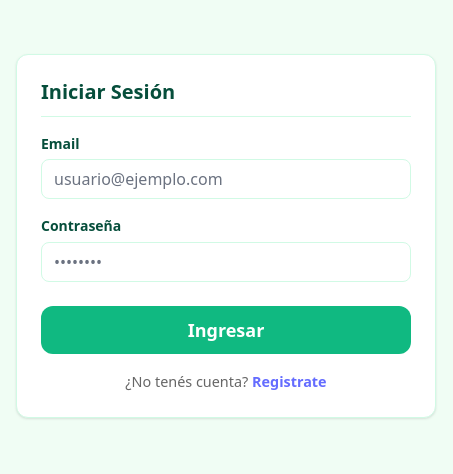
it: Login › muestra error genérico cuando login falla
In the field labelled "Email": (226, 180) x1=41 y1=160 x2=411 y2=200, type "test@mail.com"
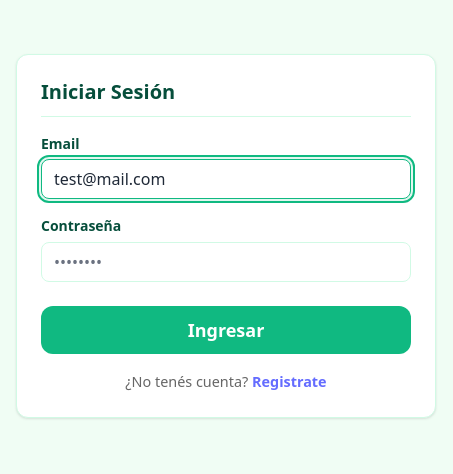
In the password field labelled "Contraseña": (226, 262) x1=41 y1=242 x2=411 y2=282, type "wrong"
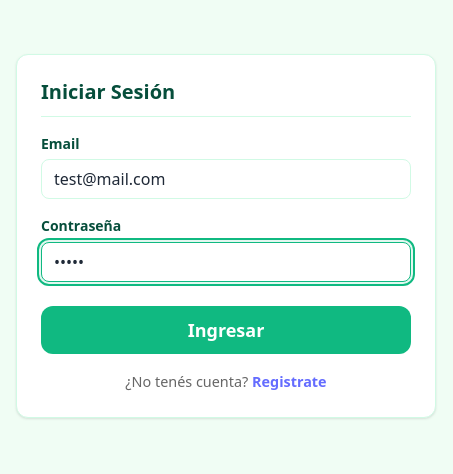
Click the button "Ingresar": (226, 330) x1=41 y1=306 x2=411 y2=354
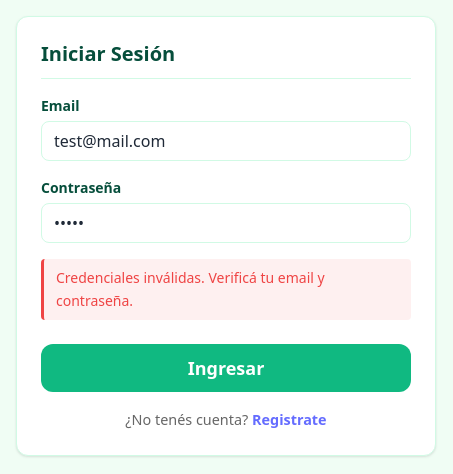
Expected: the text "Credenciales inválidas. Verificá tu email y contraseña." is shown, x1=41 y1=260 x2=411 y2=320
